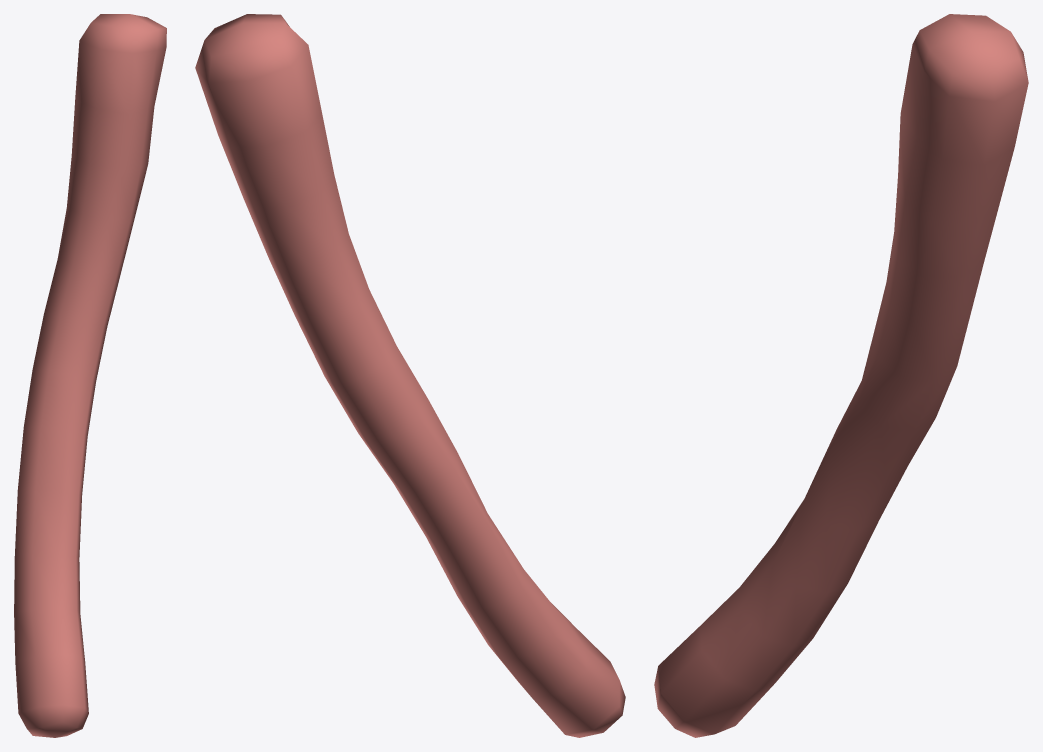
3 renders of one model, left to right at view 1: azimuth 30°, elevation 25°; view 2: azimuth 150°, elevation 25°; view 3: azimuth 270°, elevation 25°, orthographic. The views are drawn at different scales.
Visible parts, largest first — view 1: ZA_c92558a0067c7cd5; view 2: ZA_c92558a0067c7cd5; view 3: ZA_c92558a0067c7cd5.
Part boxes in pixels (bbox=[...]): ZA_c92558a0067c7cd5: bbox=[14, 14, 166, 737]; ZA_c92558a0067c7cd5: bbox=[195, 14, 625, 737]; ZA_c92558a0067c7cd5: bbox=[654, 14, 1028, 737].
Bounding box in the file's own units: 0.0301 × 0.0731 × 0.0303.
